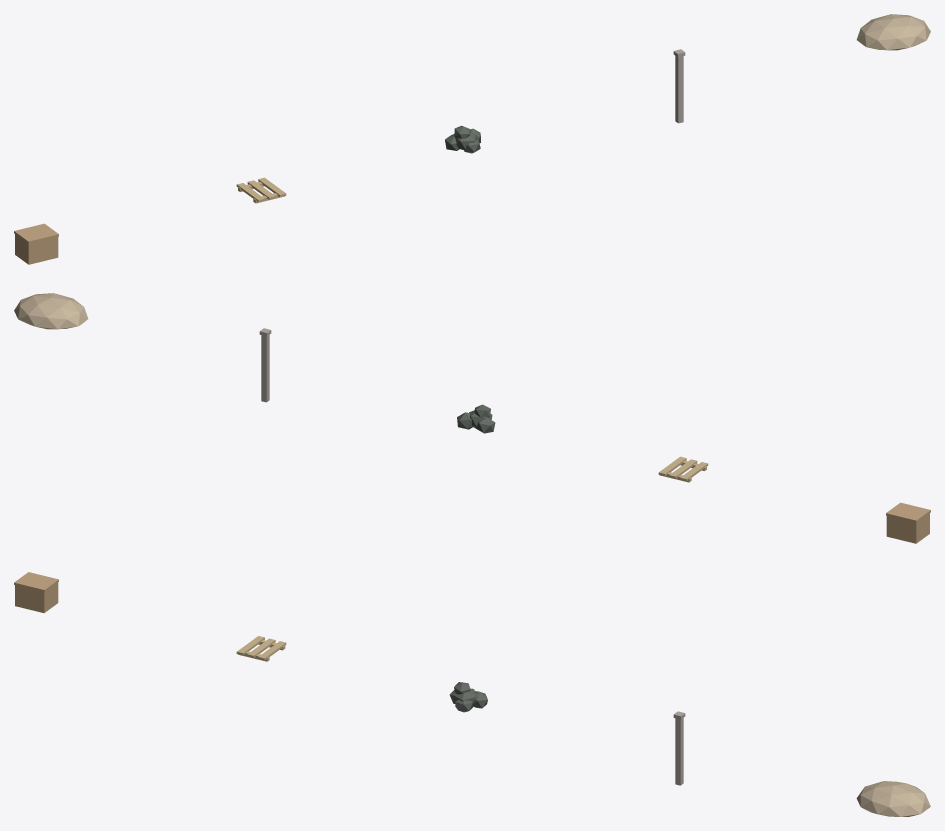
The model's file is yard_props.glb.
3 renders of one model, top to bottom at view 1: azimuth 30°, elevation 25°; view 2: azimuth 150°, elevation 25°; view 3: azimuth 330°, elevation 25°, orthographic.
Visible parts, largest first — view 1: dirt_mound, crate, trash_bag_pile, pallet, fence_post; view 2: dirt_mound, crate, trash_bag_pile, pallet, fence_post; view 3: dirt_mound, crate, trash_bag_pile, pallet, fence_post.
Boxes of the visible parts, x1=… form: dirt_mound: x1=856, y1=14, x2=930, y2=50; crate: x1=14, y1=223, x2=58, y2=264; trash_bag_pile: x1=445, y1=125, x2=480, y2=153; pallet: x1=236, y1=177, x2=286, y2=203; fence_post: x1=673, y1=49, x2=685, y2=123; dirt_mound: x1=14, y1=293, x2=88, y2=329; crate: x1=886, y1=502, x2=930, y2=543; trash_bag_pile: x1=457, y1=404, x2=495, y2=433; pallet: x1=658, y1=456, x2=708, y2=482; fence_post: x1=259, y1=328, x2=271, y2=402; dirt_mound: x1=856, y1=781, x2=930, y2=816; crate: x1=14, y1=572, x2=58, y2=612; trash_bag_pile: x1=449, y1=682, x2=487, y2=712; pallet: x1=236, y1=636, x2=286, y2=661; fence_post: x1=673, y1=711, x2=685, y2=785.
Size of the model in its own units: 16.89 by 1.25 by 1.05.
